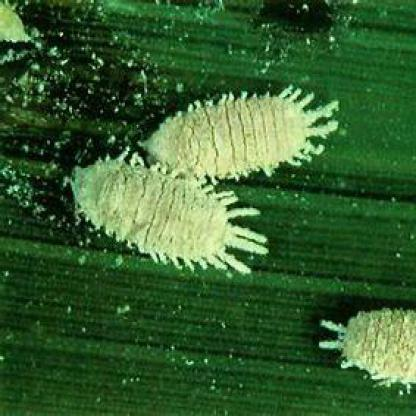mealy bug: (71, 159, 268, 270), (142, 88, 339, 181)
